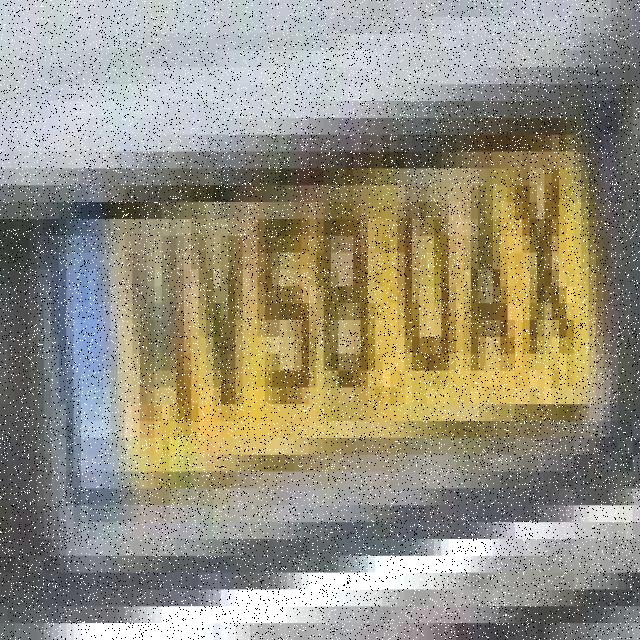licenseplate: (47, 138, 619, 478)
